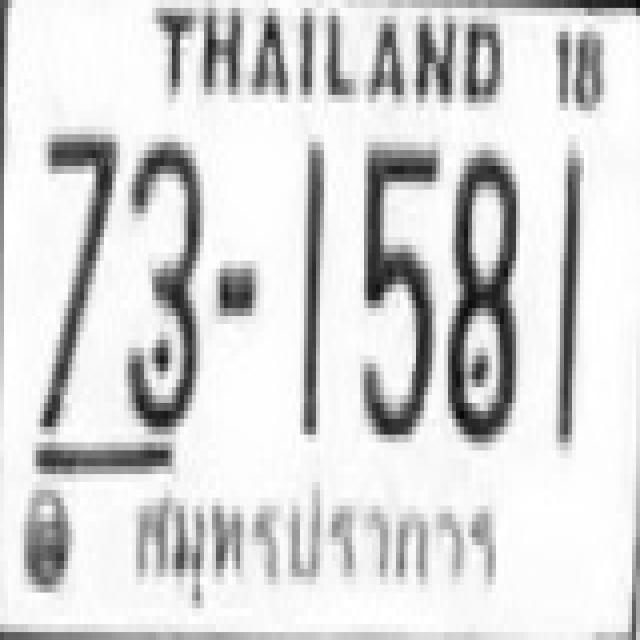1: (554, 146, 582, 446), (296, 142, 320, 435)
3: (124, 134, 200, 434)
5: (356, 134, 436, 434)
7: (36, 122, 116, 422)
8: (444, 142, 516, 435)
SamutPrakan: (130, 472, 502, 598)
